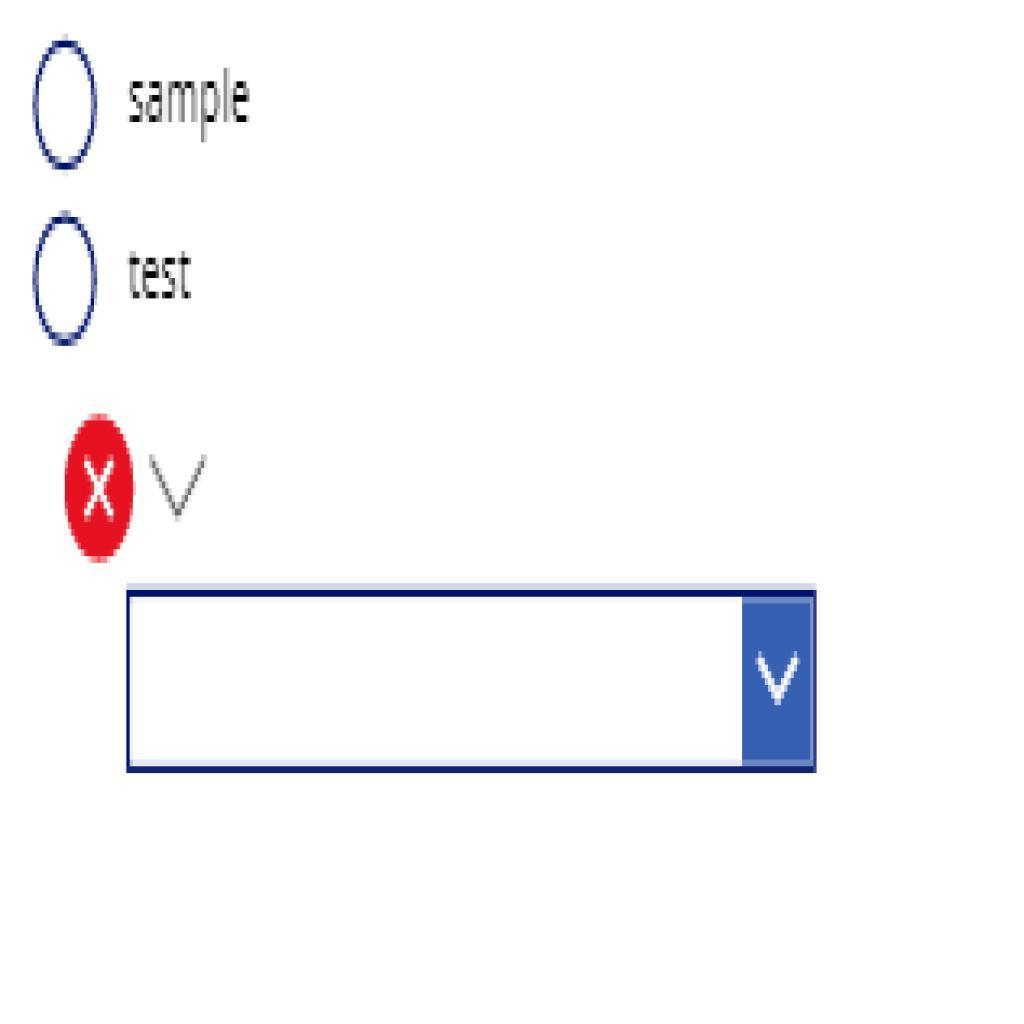dropdown: (128, 590, 818, 776)
radio: (30, 26, 107, 184), (25, 215, 106, 354)
